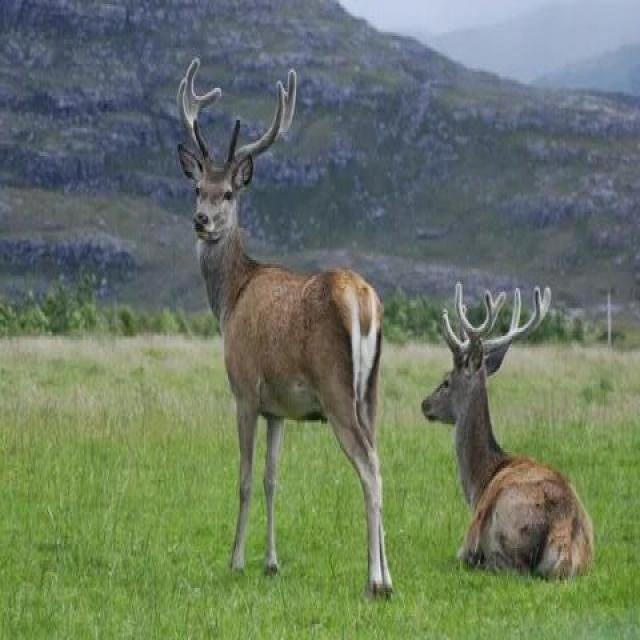deer: (138, 99, 408, 532)
